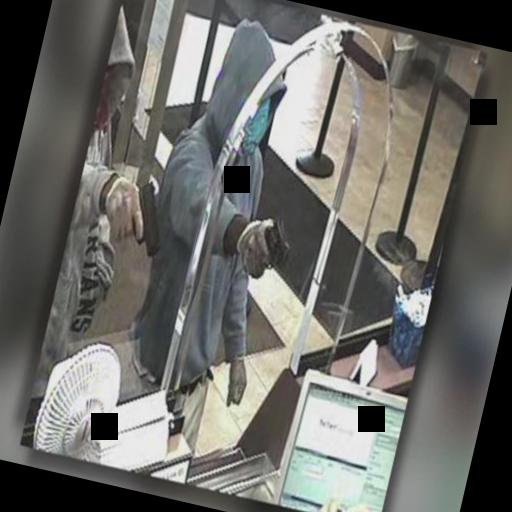Handgun: (110, 171, 174, 257), (254, 213, 298, 274)
